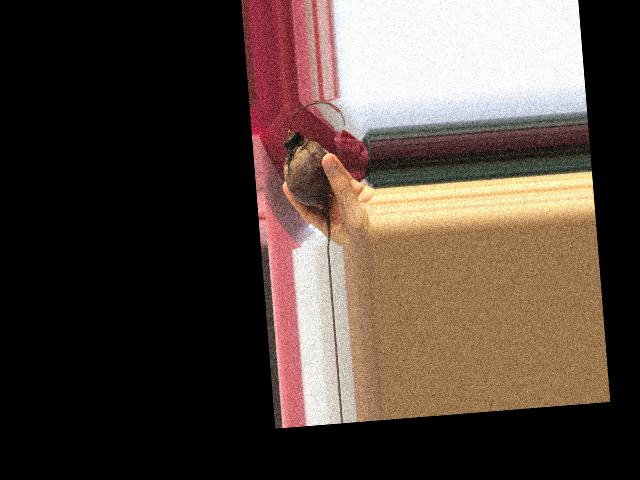beet: (278, 99, 354, 250)
